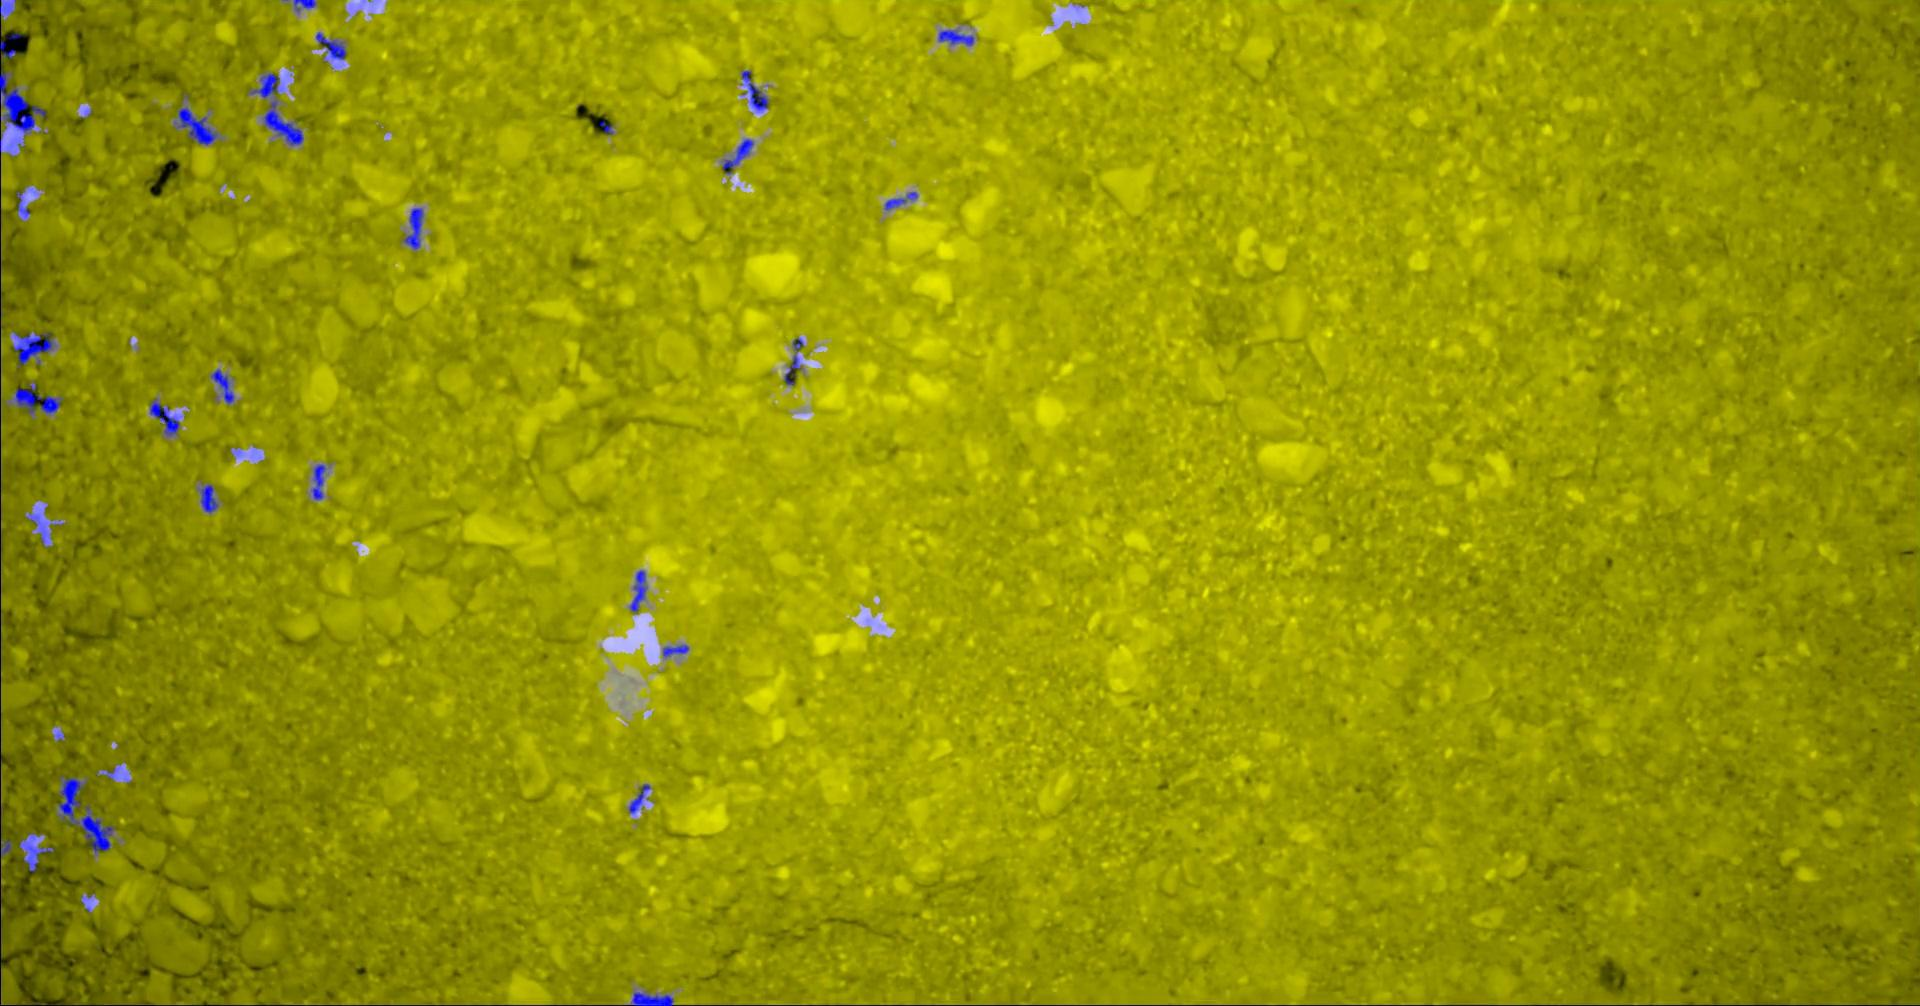ant: (262, 100, 303, 145), (177, 107, 217, 144), (11, 332, 52, 367), (14, 384, 62, 413), (149, 398, 179, 434), (721, 138, 753, 173), (742, 70, 767, 111), (22, 843, 53, 871), (315, 30, 345, 58), (403, 207, 422, 249), (210, 368, 232, 403), (629, 570, 646, 611), (250, 72, 279, 97), (884, 191, 917, 210), (629, 782, 649, 813), (0, 803, 11, 856), (630, 991, 673, 1005), (938, 29, 973, 44), (783, 354, 801, 384), (311, 464, 325, 499), (201, 484, 217, 512), (0, 0, 11, 36), (17, 191, 29, 217), (662, 644, 688, 657), (0, 39, 15, 58), (293, 0, 315, 11), (598, 119, 612, 133)
